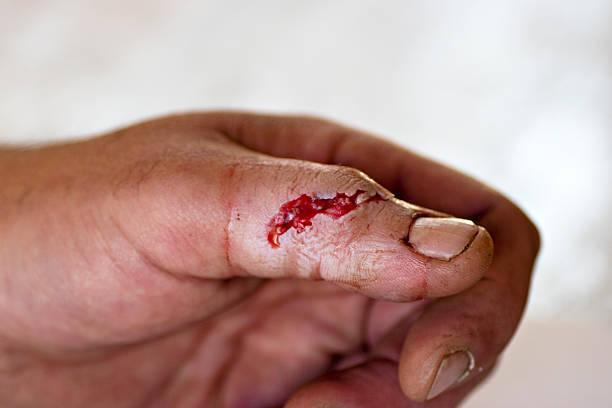Fire: (268, 189, 388, 248)
